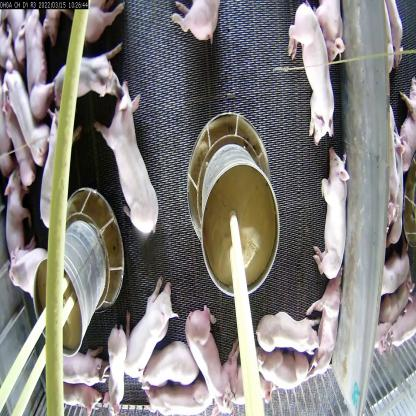Pig: (97, 86, 161, 268), (282, 0, 338, 152), (49, 47, 131, 122), (123, 283, 178, 389), (30, 94, 74, 226), (135, 325, 213, 397), (307, 156, 348, 283), (0, 60, 47, 170), (16, 13, 56, 128), (188, 296, 227, 399), (225, 358, 286, 414), (136, 367, 204, 415), (252, 307, 310, 361), (312, 275, 342, 370), (2, 176, 23, 296), (239, 356, 314, 388), (99, 324, 129, 400)
